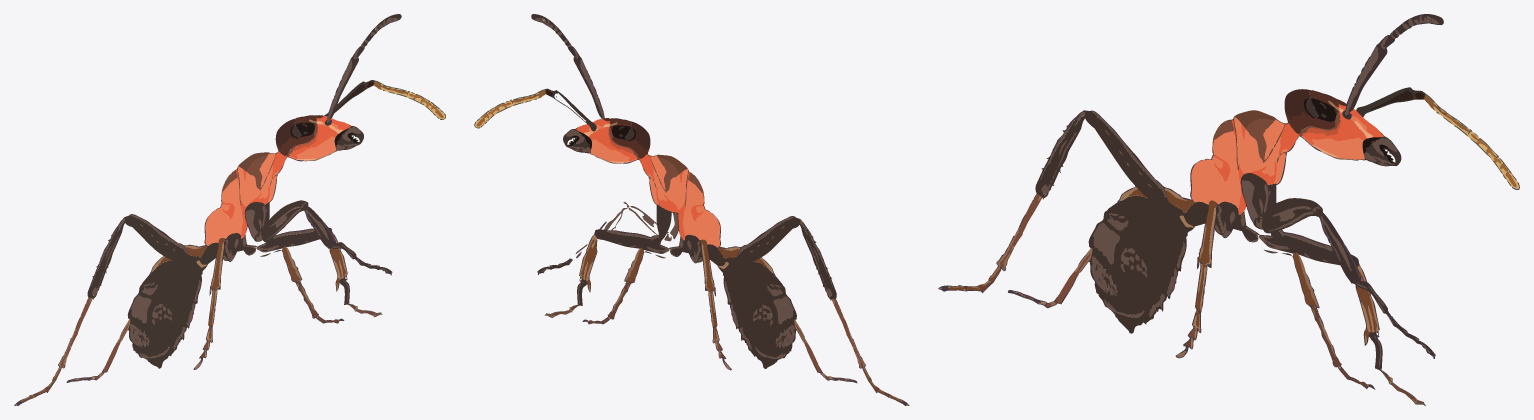
The model's file is ant.glb.
The picture shows the model from 3 angles, left to right: view 1: azimuth 30°, elevation 25°; view 2: azimuth 150°, elevation 25°; view 3: azimuth 330°, elevation 25°; orthographic projection. The views are drawn at different scales.
Visible parts, largest first — view 1: n.272, antantennaone, antantennatwo, antleglow, n.621, n.635; view 2: n.272, antantennaone, antantennatwo; view 3: n.272, antantennaone, antleglow, antantennatwo, n.621, n.635.
Boxes of the visible parts, box(x1,y1,x2,y2) form: n.272: box(14, 115, 382, 405); antantennaone: box(324, 80, 445, 119); antantennatwo: box(325, 14, 401, 125); antleglow: box(304, 206, 392, 275); n.621: box(262, 200, 308, 241); n.635: box(244, 202, 266, 241); n.272: box(544, 118, 909, 405); antantennaone: box(474, 88, 596, 131); antantennatwo: box(531, 14, 604, 118); n.272: box(938, 89, 1425, 405); antantennaone: box(1356, 87, 1519, 189); antleglow: box(1319, 212, 1435, 358); antantennatwo: box(1342, 14, 1443, 119); n.621: box(1262, 198, 1322, 233); n.635: box(1240, 173, 1270, 229).
Bounding box in the file's own units: 2.79 × 1.89 × 0.0723.
